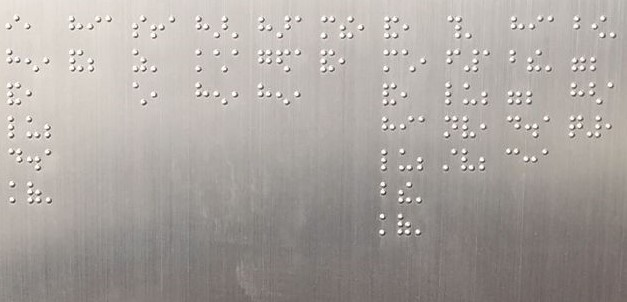Braille: (24, 14, 41, 40), (167, 15, 184, 41), (231, 48, 248, 74), (463, 47, 480, 73), (149, 82, 166, 108), (257, 15, 274, 40), (320, 15, 337, 40), (356, 16, 373, 41), (131, 49, 148, 74), (526, 48, 543, 73), (542, 115, 559, 140), (231, 14, 247, 40), (294, 15, 310, 41), (294, 48, 310, 74), (402, 16, 419, 40), (68, 48, 85, 72), (508, 49, 525, 73), (589, 48, 606, 72), (381, 82, 398, 106), (525, 82, 542, 106), (523, 116, 540, 140), (379, 148, 396, 172), (377, 213, 394, 237), (4, 14, 20, 39), (338, 15, 354, 40), (528, 14, 544, 39), (24, 47, 40, 72), (42, 48, 58, 73), (213, 49, 229, 74), (275, 48, 291, 73), (320, 49, 336, 74), (419, 49, 435, 74), (132, 81, 148, 106), (293, 82, 309, 107), (586, 114, 602, 139), (26, 147, 42, 172), (398, 147, 414, 172), (149, 50, 166, 73), (195, 49, 212, 72), (570, 49, 587, 72), (415, 148, 432, 171), (541, 148, 558, 171), (196, 14, 211, 40), (7, 47, 22, 73), (213, 15, 229, 39), (383, 16, 399, 40), (447, 15, 463, 39), (87, 49, 103, 73), (257, 49, 273, 73), (482, 49, 498, 73), (6, 82, 22, 106), (231, 82, 247, 106), (257, 82, 273, 106), (400, 83, 416, 107), (569, 81, 585, 105), (7, 115, 23, 139), (25, 115, 41, 139), (380, 115, 396, 139), (506, 115, 522, 139), (44, 148, 60, 172), (9, 181, 25, 205), (504, 147, 520, 171), (397, 180, 413, 204), (276, 15, 291, 40), (510, 15, 525, 40), (213, 81, 228, 106), (275, 82, 290, 107), (569, 114, 584, 139), (8, 147, 23, 172), (460, 147, 475, 172), (445, 49, 461, 72), (545, 49, 561, 72), (24, 83, 40, 106), (444, 82, 460, 105), (480, 83, 496, 106), (506, 83, 522, 106), (43, 116, 59, 139), (399, 115, 415, 138), (444, 115, 460, 138), (442, 148, 458, 171), (478, 148, 494, 171), (522, 148, 538, 171), (69, 14, 84, 38), (131, 15, 146, 39), (150, 15, 165, 39), (547, 15, 562, 39), (338, 49, 353, 73), (383, 48, 398, 72), (401, 49, 416, 73), (195, 81, 210, 105), (463, 82, 478, 106), (607, 81, 622, 105), (418, 115, 433, 139), (605, 115, 620, 139), (592, 15, 606, 40), (87, 15, 102, 38), (106, 16, 121, 39), (566, 16, 581, 39), (609, 16, 624, 39), (462, 116, 477, 139), (27, 181, 42, 204), (45, 181, 60, 204), (397, 213, 412, 236), (589, 81, 603, 105), (379, 181, 394, 203), (465, 16, 479, 39), (480, 116, 494, 139), (416, 182, 430, 204), (414, 214, 428, 236)
